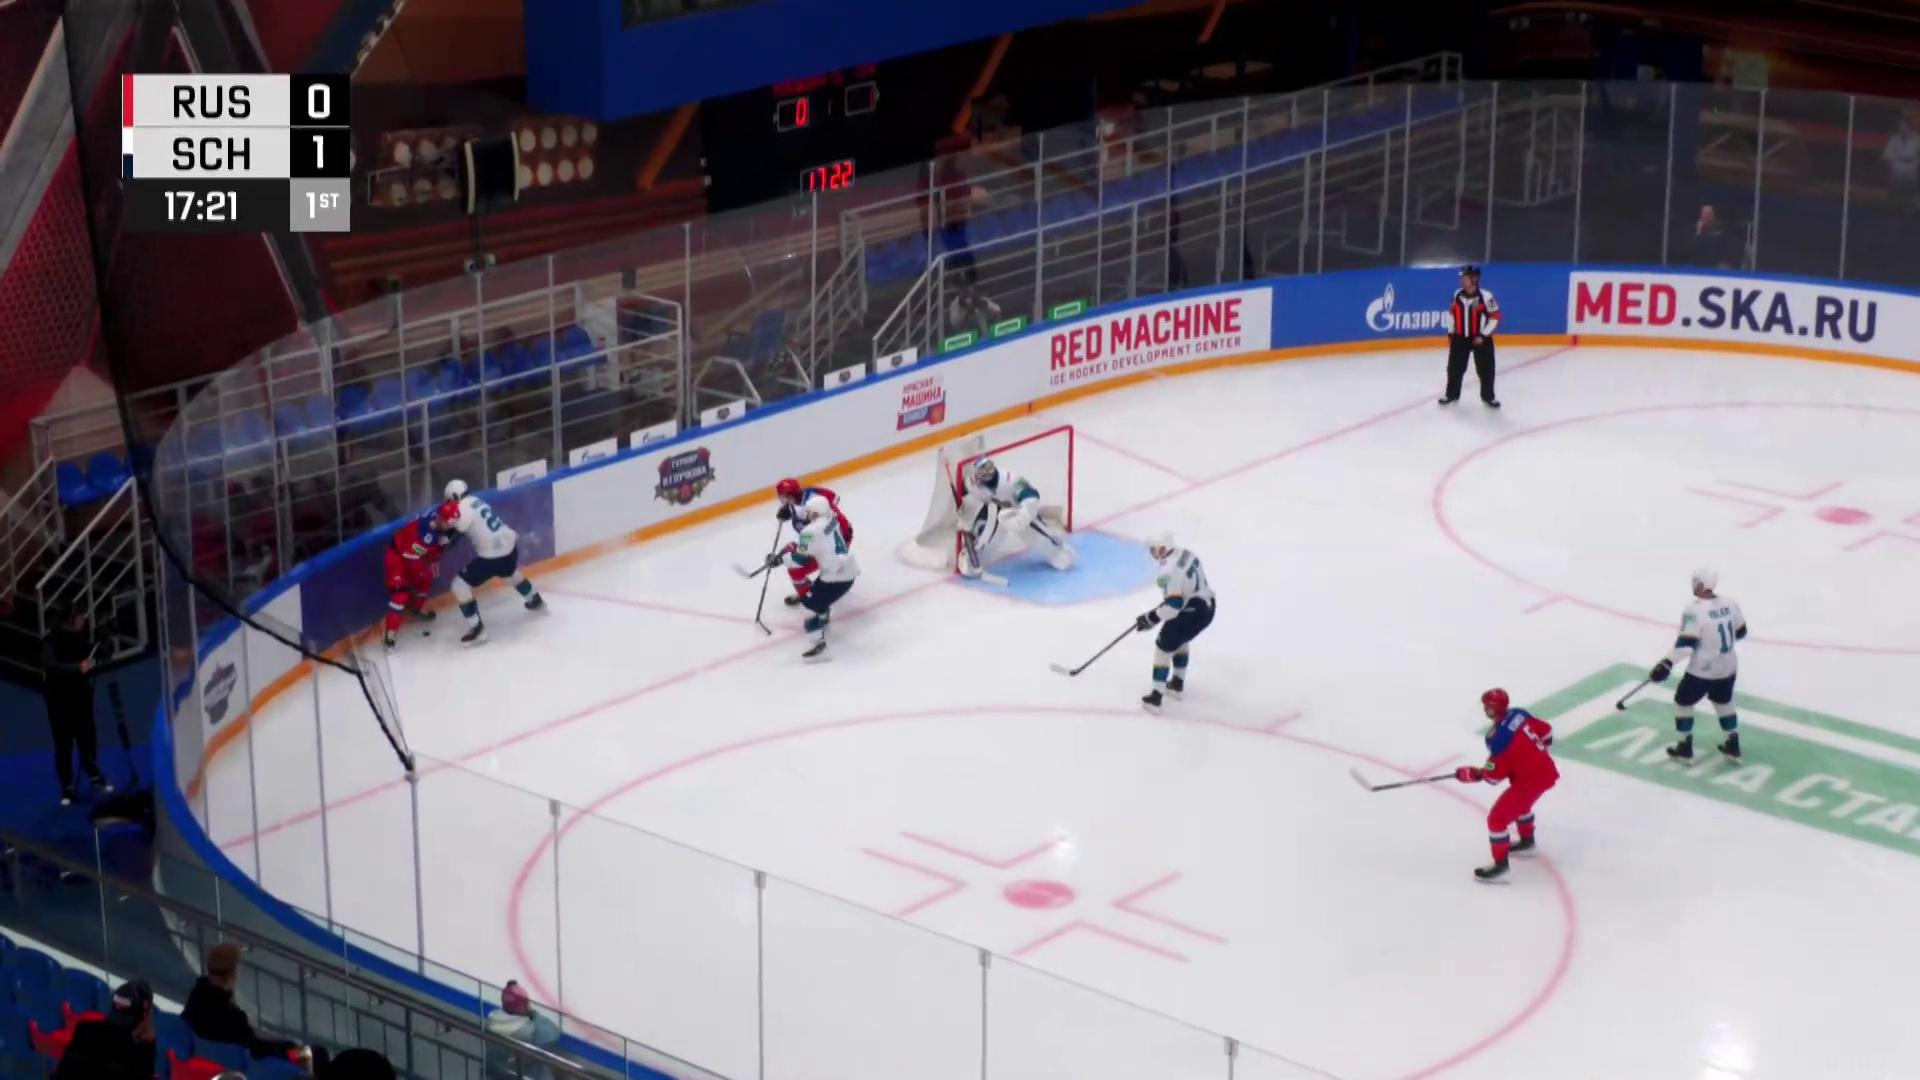ball: (422, 630, 431, 637)
